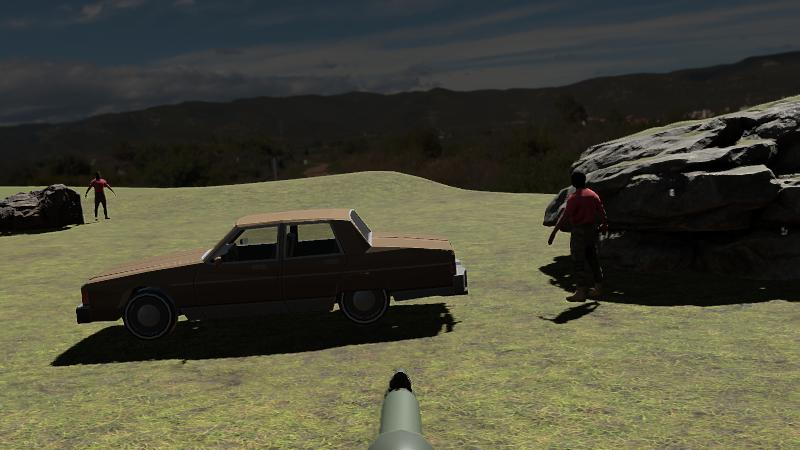Human: (548, 169, 609, 302), (86, 170, 116, 222)
car: (75, 211, 467, 345)
